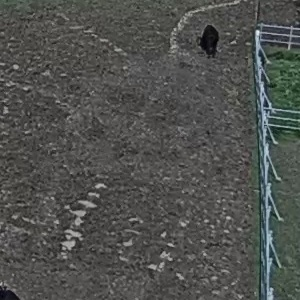cow: (188, 20, 229, 64)
